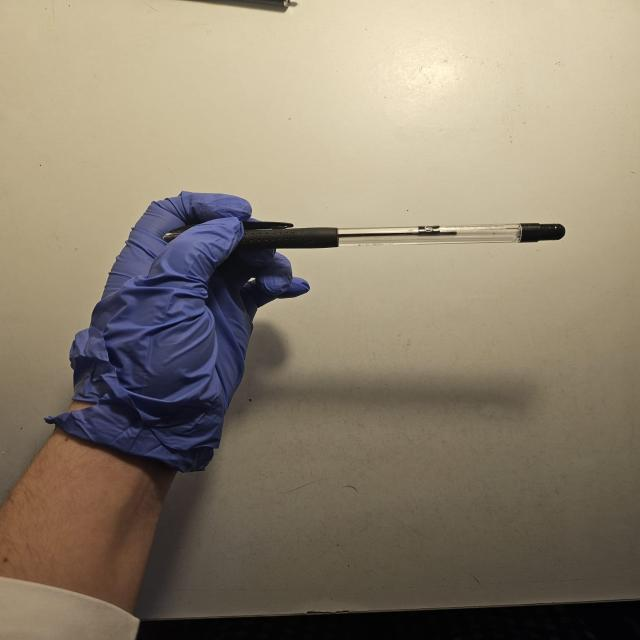gloves_damaged: (38, 188, 312, 474)
